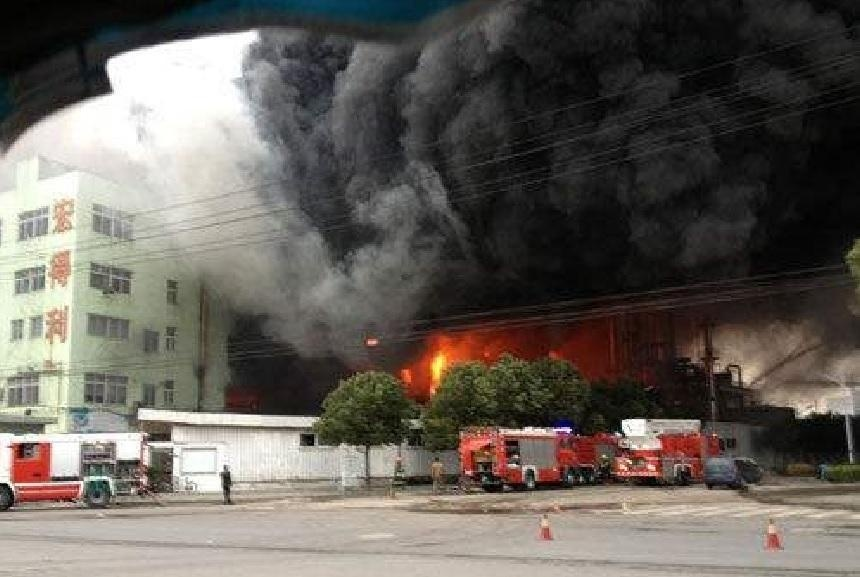fire: (425, 344, 454, 389)
